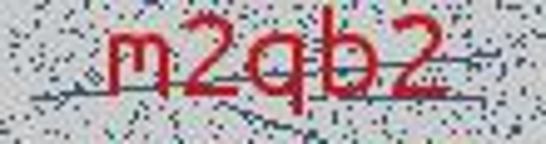2: (389, 8, 455, 107), (175, 8, 241, 103)
b: (315, 1, 385, 109)
m: (103, 28, 179, 110)
q: (241, 25, 313, 123)
